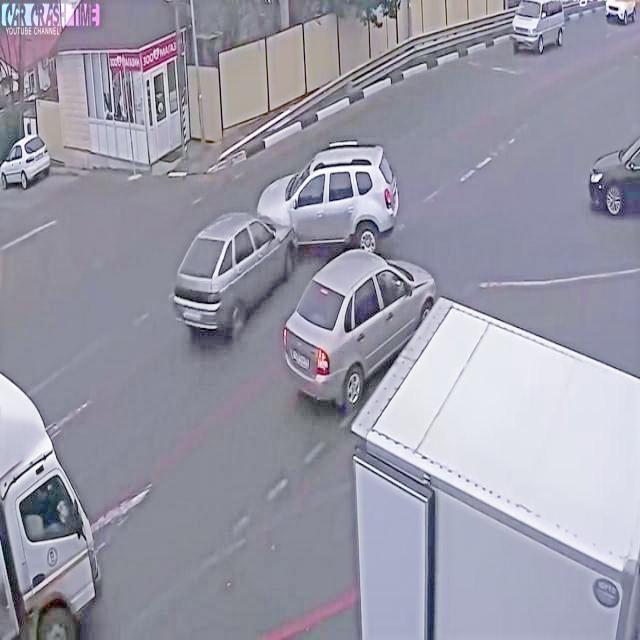Car: (288, 245, 444, 400), (166, 209, 285, 338), (251, 143, 394, 242)
Minor Accident: (169, 133, 395, 320)
Not Accident: (280, 236, 640, 640)
